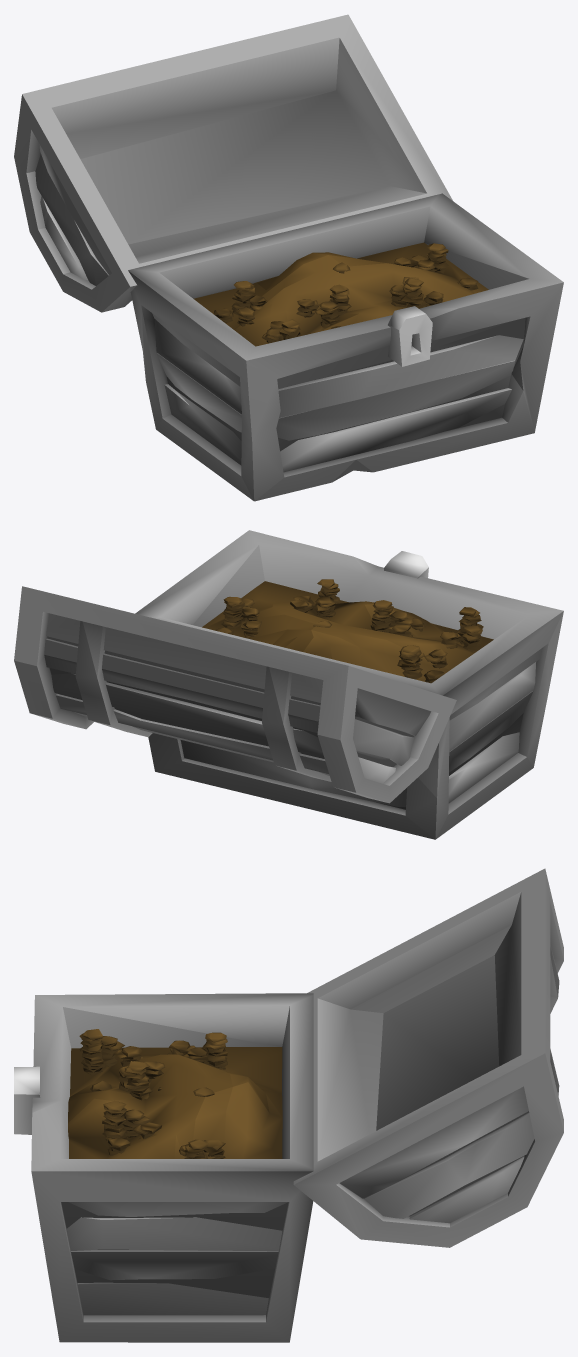
File: pq_coffre_or_2.glb
3 renders of one model, top to bottom at view 1: azimuth 30°, elevation 25°; view 2: azimuth 150°, elevation 25°; view 3: azimuth 270°, elevation 25°, orthographic. The views are drawn at different scales.
Parts seen in each view (by area): view 1: Chest_Base; view 2: Chest_Base; view 3: Chest_Base.
Boxes of the visible parts, box(x1,y1,x2,y2) form: Chest_Base: box(14, 14, 563, 501); Chest_Base: box(14, 530, 563, 839); Chest_Base: box(14, 868, 563, 1342).
Bounding box in the file's own units: 1.18 × 0.8994 × 1.48.
